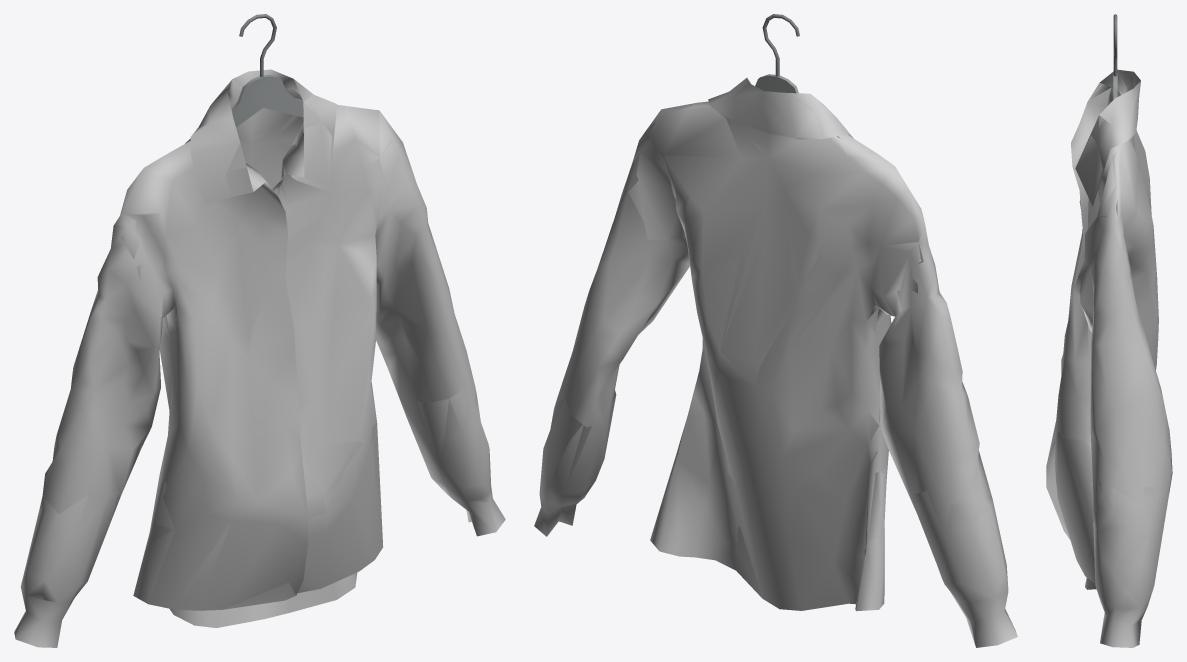
The model's file is shirtbutton.FBX.
3 views of the same model, side by side, from view 1: azimuth 30°, elevation 25°; view 2: azimuth 150°, elevation 25°; view 3: azimuth 270°, elevation 25° (orthographic). The views are drawn at different scales.
Visible parts, largest first — view 1: shirtbutton_LOD0, _Hanger-5_LOD0; view 2: shirtbutton_LOD0, _Hanger-5_LOD0; view 3: shirtbutton_LOD0, _Hanger-5_LOD0.
Boxes of the visible parts, box(x1,y1,x2,y2) form: shirtbutton_LOD0: box(14, 69, 505, 647); _Hanger-5_LOD0: box(231, 14, 303, 127); shirtbutton_LOD0: box(534, 78, 1017, 647); _Hanger-5_LOD0: box(649, 14, 840, 138); shirtbutton_LOD0: box(1046, 69, 1172, 647); _Hanger-5_LOD0: box(1113, 14, 1117, 215).
Size of what is drawn, in the model's own units: 61.2 by 14.89 by 72.51.
